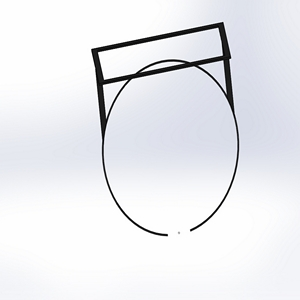circle: (87, 22, 241, 237)
